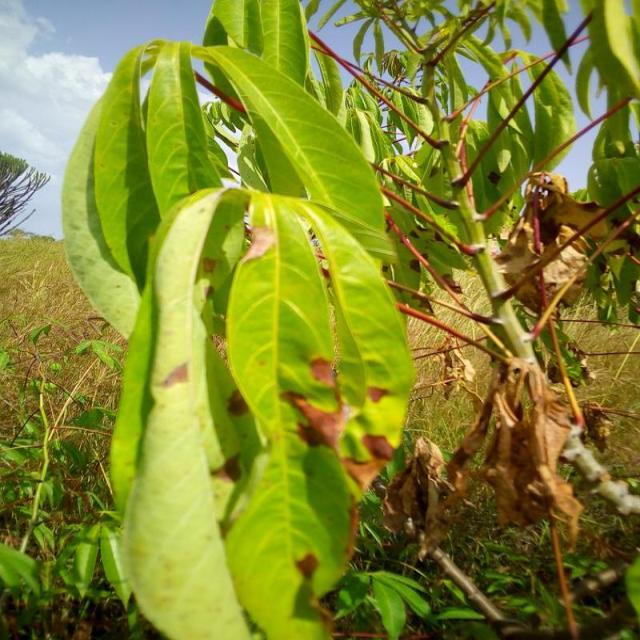cassava leaf: (62, 1, 418, 638), (199, 40, 399, 266)
